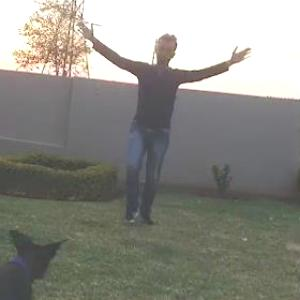takeoff: (82, 14, 267, 226)
